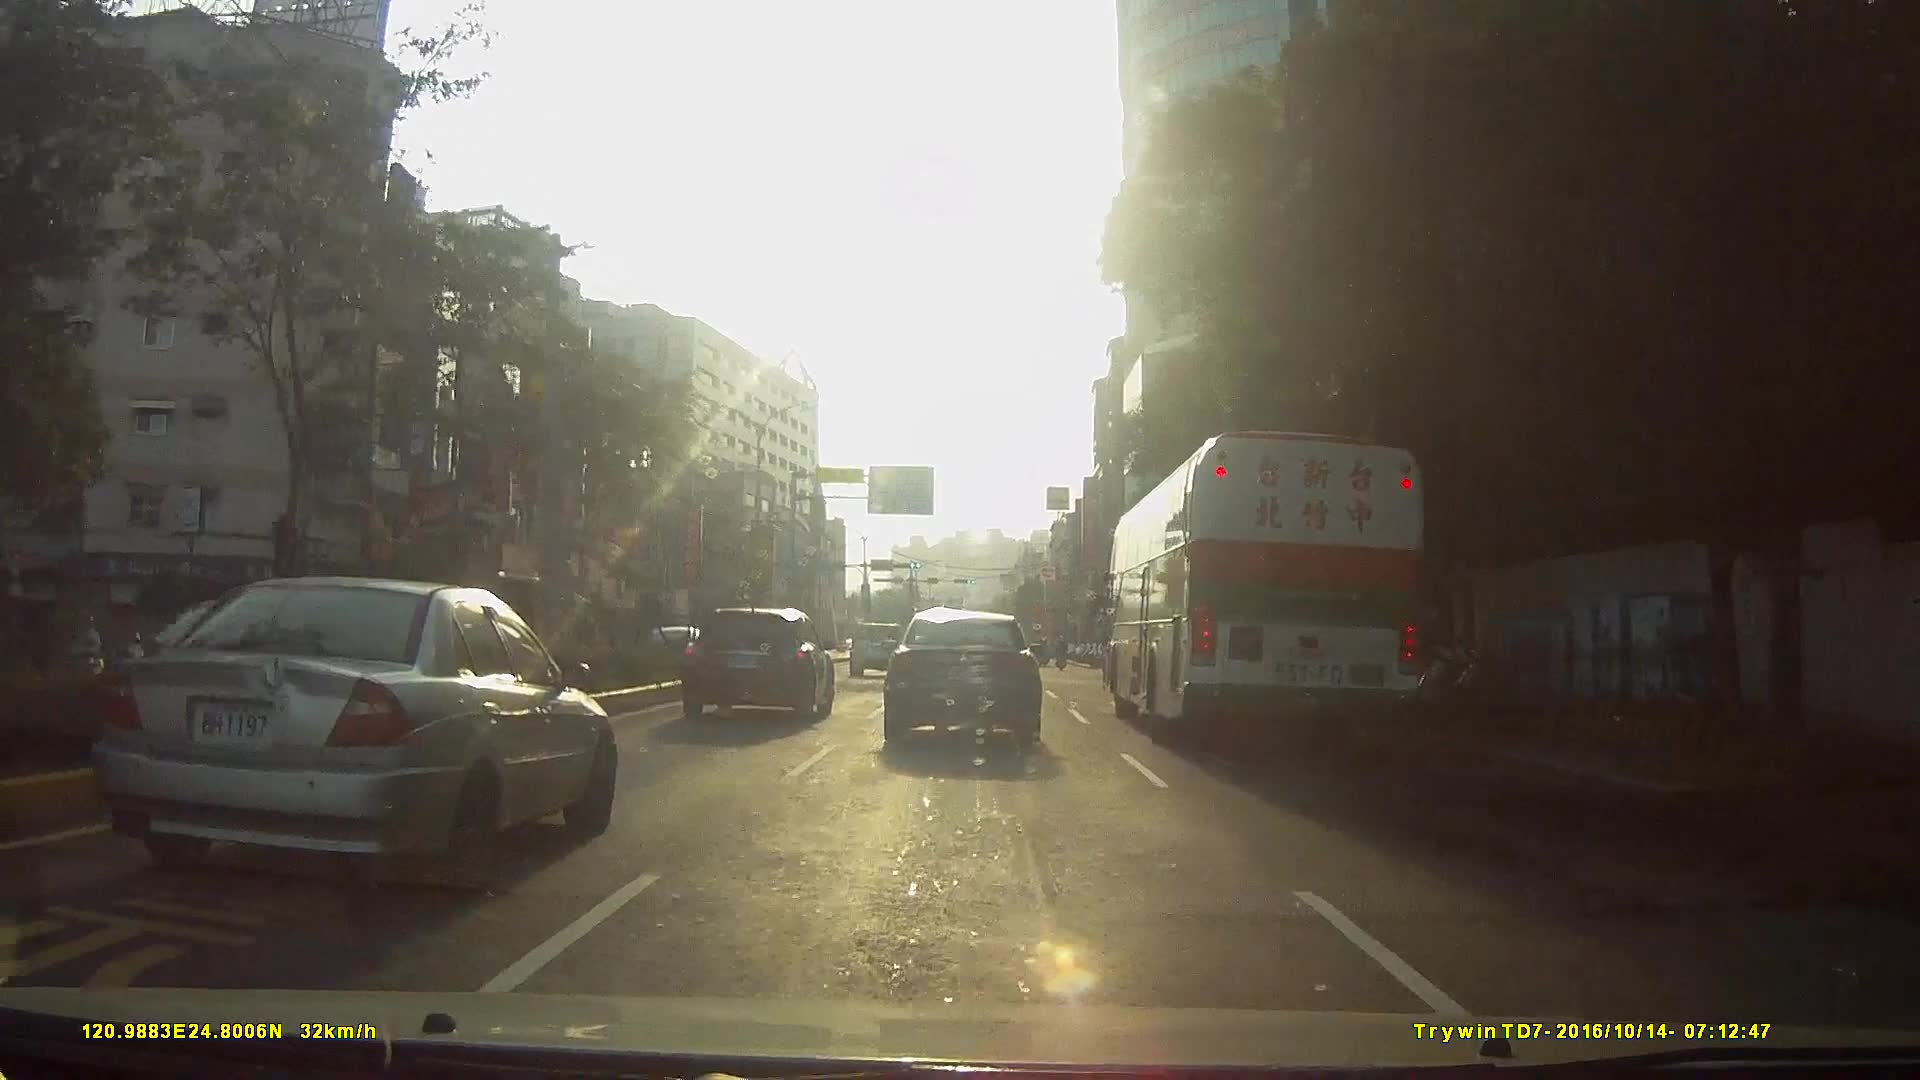vehicle: (84, 574, 618, 907), (1096, 407, 1470, 750), (881, 609, 1044, 754), (680, 603, 836, 721), (851, 621, 905, 679)
